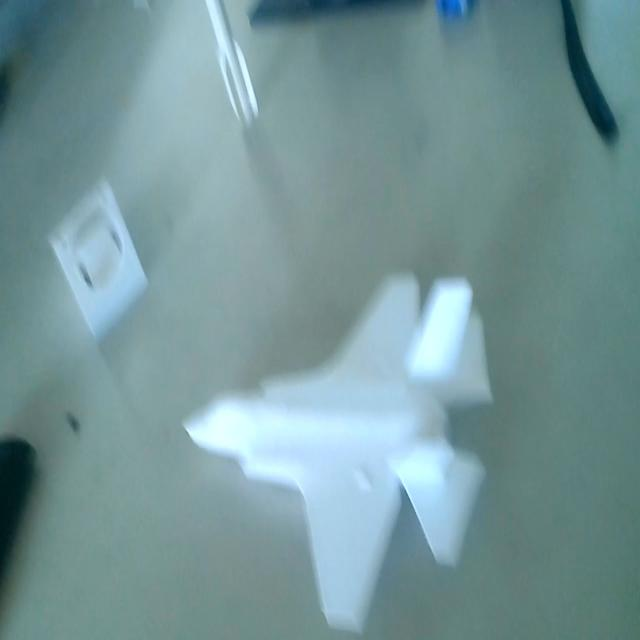Jet: (176, 269, 496, 634)
Rocket: (196, 0, 262, 136)
